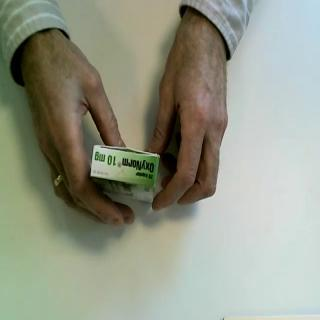oxynorm10mg: (90, 143, 162, 207)
